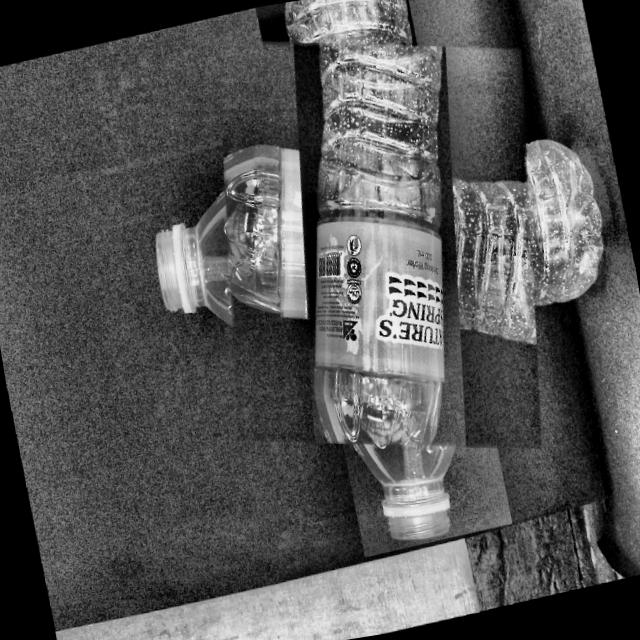Plastic-Bottle: (174, 0, 586, 498)
